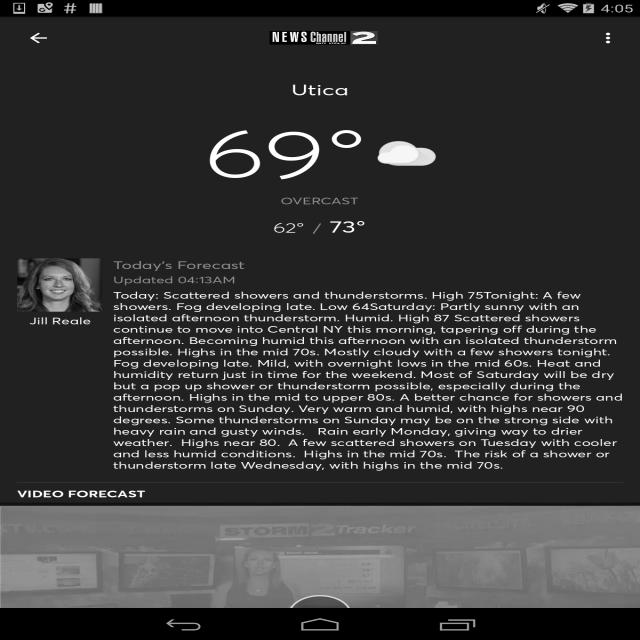ImageButton: (9, 17, 68, 59)
ImageView: (0, 502, 640, 640), (17, 258, 102, 312), (261, 22, 388, 54), (288, 595, 352, 635), (377, 135, 436, 172), (589, 22, 631, 54)
TextView: (113, 289, 623, 472), (204, 113, 368, 195), (291, 64, 349, 112), (113, 258, 245, 274), (113, 274, 236, 289), (17, 488, 146, 500), (17, 315, 113, 329), (17, 329, 113, 339), (280, 195, 359, 207), (329, 217, 366, 237), (273, 220, 305, 236), (304, 221, 330, 236)
